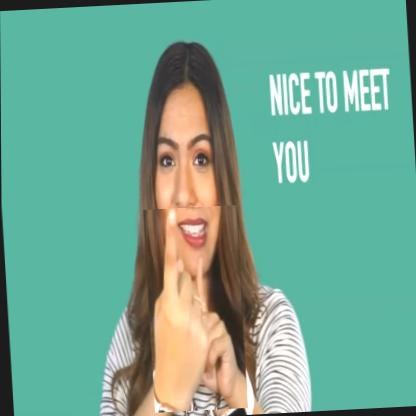NiceToMeetYou: (142, 204, 246, 412)
